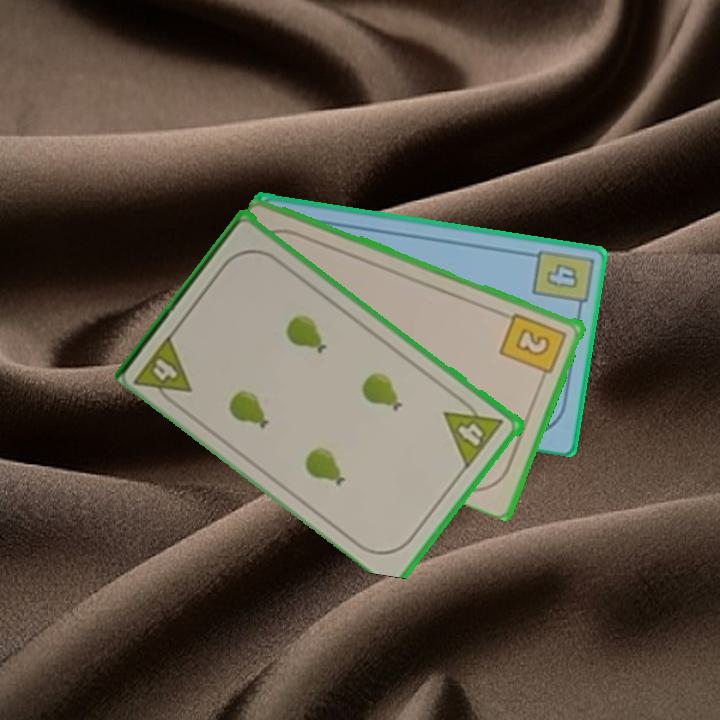2b: (497, 309, 570, 384)
4b: (529, 245, 594, 316)
4p: (131, 329, 196, 412), (441, 392, 507, 470)
